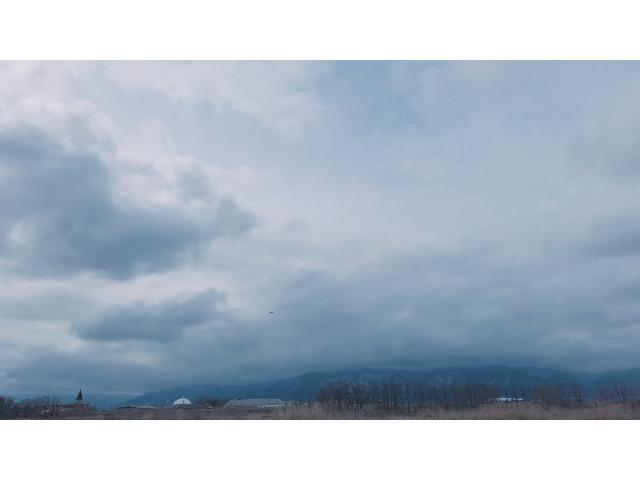Anti-Drone: (265, 308, 277, 316)
